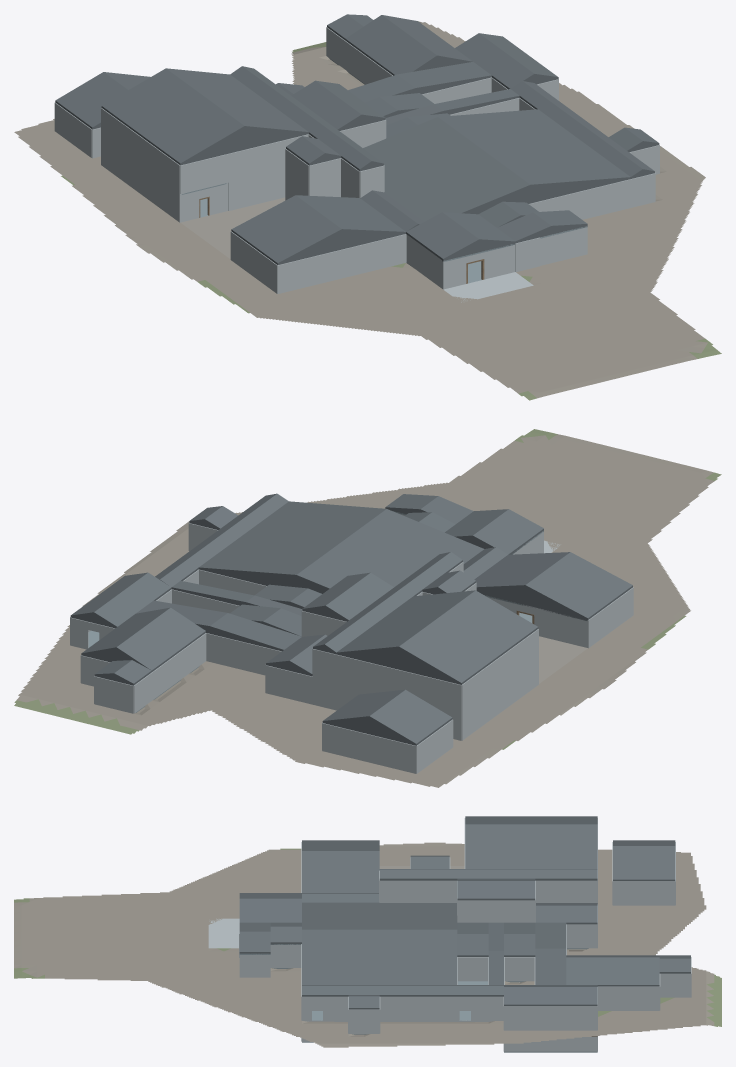
File: asylum-power.glb
3 views of the same model, one above another, from view 1: azimuth 30°, elevation 25°; view 2: azimuth 150°, elevation 25°; view 3: azimuth 270°, elevation 25° (orthographic). The views are drawn at different scales.
Visible parts, largest first — view 1: Saved editor geographic earthworks ASYLUM, clinical-and-dining roof west, clinical-and-dining roof east, two-storey-ward roof west, day-pavilion roof west, Wall day S, two-storey-ward roof east, quiet-pavilion roof west, upper-spine roof west, Wall meal-return S, day-pavilion roof east, service-corridor roof west (+44 smaller); view 2: Saved editor geographic earthworks ASYLUM, clinical-and-dining roof east, clinical-and-dining roof west, two-storey-ward roof west, day-pavilion roof west, two-storey-ward roof east, quiet-pavilion roof west, Wall chapel N, chapel roof west, upper-spine roof west, day-pavilion roof east, service-corridor roof west (+44 smaller); view 3: Saved editor geographic earthworks ASYLUM, clinical-and-dining roof east, two-storey-ward roof east, clinical-and-dining roof west, Flat route shell Wall service E, day-pavilion roof east, quiet-pavilion roof east, upper-spine roof east, Wall service-stair E, service-corridor roof east, chapel roof east, service-stair roof east (+31 smaller).
Boxes of the visible parts, x1,y1,x2,y2 form: Saved editor geographic earthworks ASYLUM: (14,21,721,400); clinical-and-dining roof west: (363,117,530,221); clinical-and-dining roof east: (438,109,630,186); two-storey-ward roof west: (101,68,244,164); day-pavilion roof west: (231,195,341,264); Wall day S: (277,234,406,293); two-storey-ward roof east: (166,68,308,133); quiet-pavilion roof west: (345,15,437,75); upper-spine roof west: (230,66,371,170); Wall meal-return S: (529,179,631,219); day-pavilion roof east: (296,195,405,233); service-corridor roof west: (511,81,642,178); Saved editor geographic earthworks ASYLUM: (14,429,721,787); clinical-and-dining roof east: (198,501,386,576); clinical-and-dining roof west: (296,509,483,589); two-storey-ward roof west: (399,590,538,684); day-pavilion roof west: (525,552,632,619); two-storey-ward roof east: (336,590,475,654); quiet-pavilion roof west: (116,607,205,671); Wall chapel N: (322,723,416,773); chapel roof west: (369,689,452,745); upper-spine roof west: (324,552,462,653); day-pavilion roof east: (474,552,569,588); service-corridor roof west: (160,493,288,587); Saved editor geographic earthworks ASYLUM: (14,842,721,1047); clinical-and-dining roof east: (302,929,457,984); two-storey-ward roof east: (465,824,597,868); clinical-and-dining roof west: (302,902,457,929); Flat route shell Wall service E: (323,996,503,1020); day-pavilion roof east: (302,851,379,892); quiet-pavilion roof east: (566,957,659,986); upper-spine roof east: (379,869,597,880); Wall service-stair E: (504,1006,597,1030); service-corridor roof east: (302,985,503,996); chapel roof east: (613,846,675,881); service-stair roof east: (504,987,597,1006).
Size of the model in its own units: 62 by 12.8 by 91.
48 materials, 30 textured.
